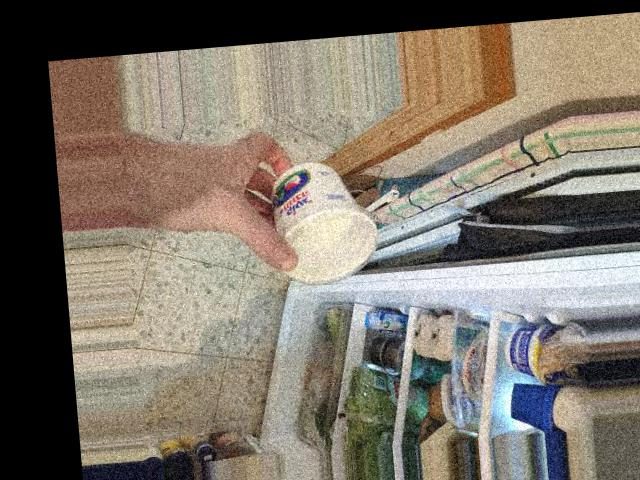cotage: (269, 161, 393, 279)
